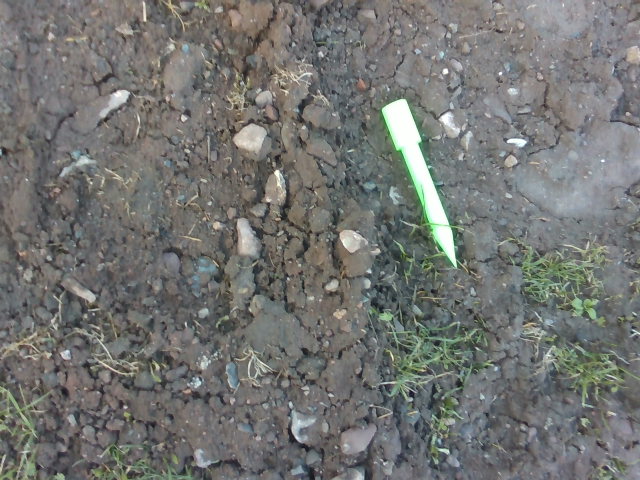Probe: (375, 93, 465, 273)
